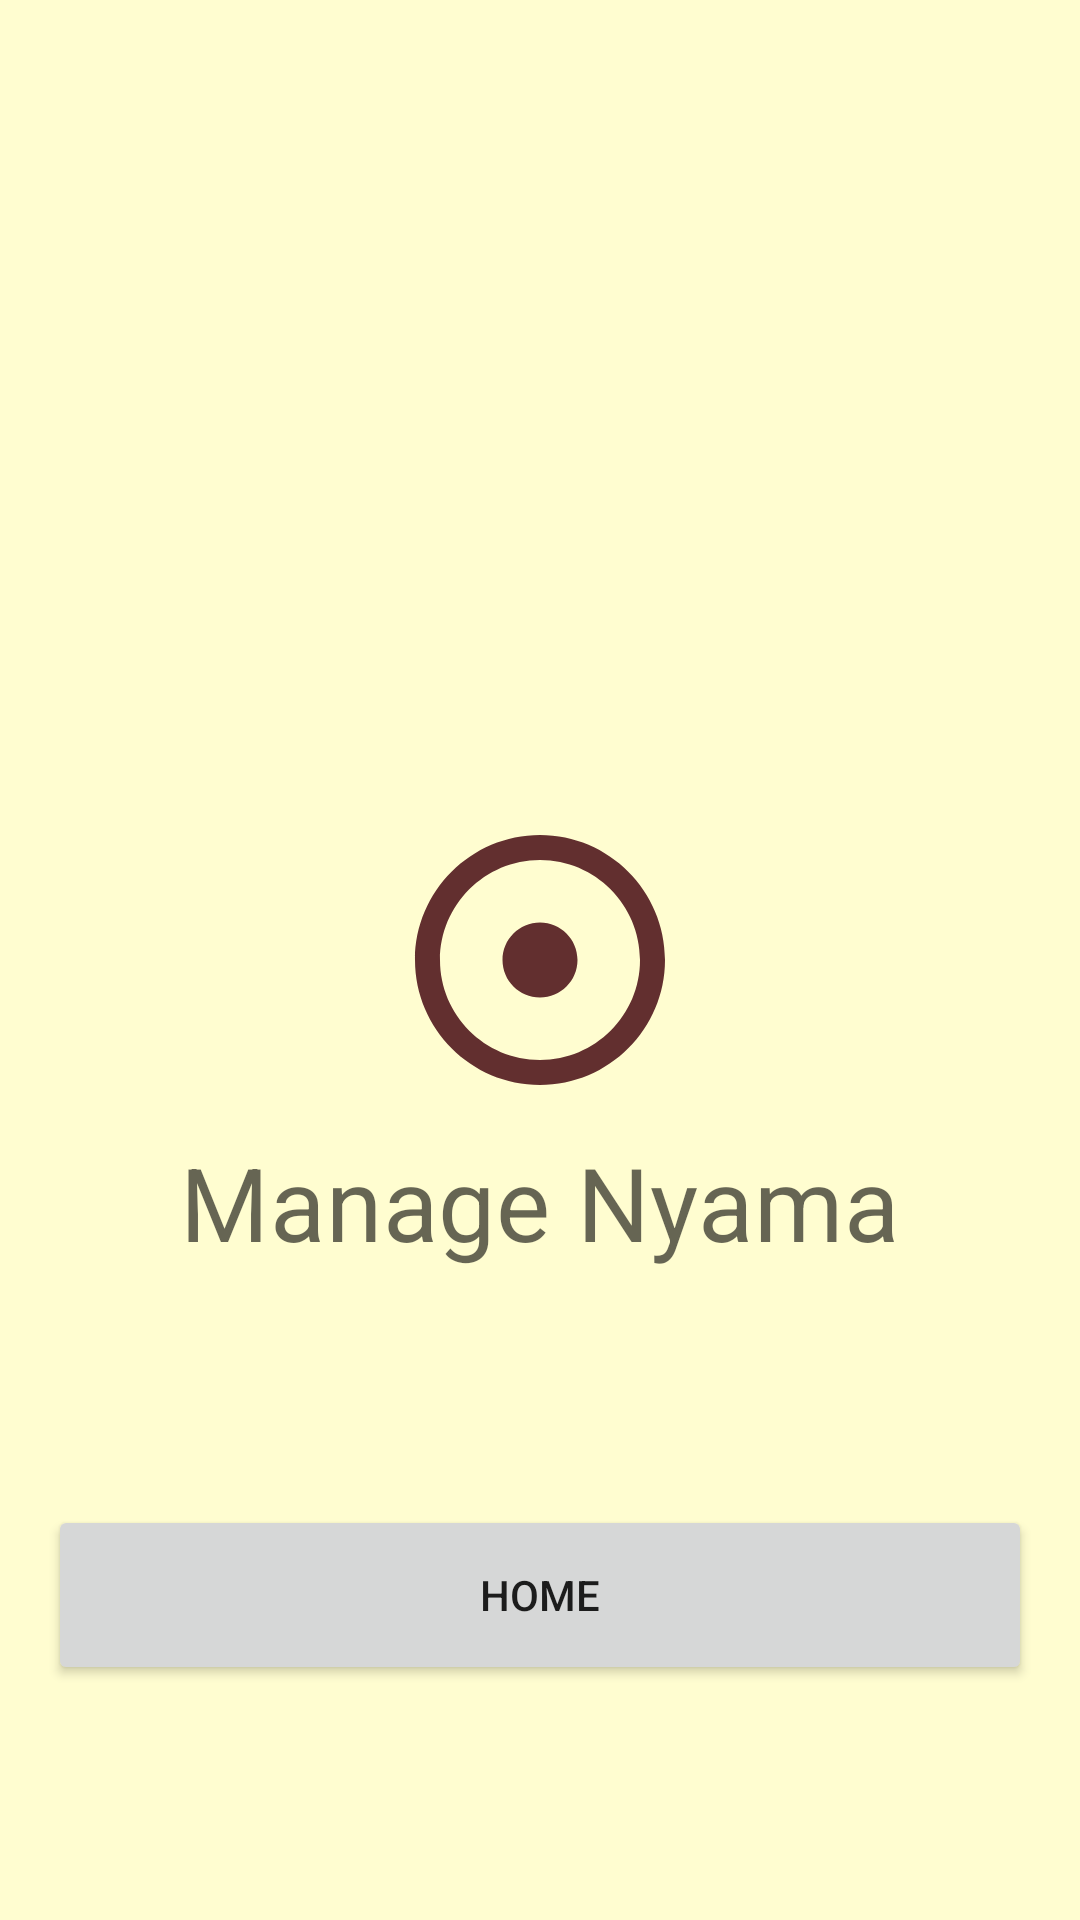

Point at icon controls on the screen. Image size 1080x1920, points as [x,y].
adjust: [540,960]
